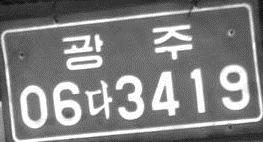0: (19, 84, 47, 129)
1: (184, 69, 212, 114)
3: (115, 74, 144, 120)
4: (151, 71, 179, 116)
6: (52, 80, 82, 127)
9: (218, 64, 250, 111)
광주_D: (61, 23, 192, 69)
다: (84, 79, 112, 119)
